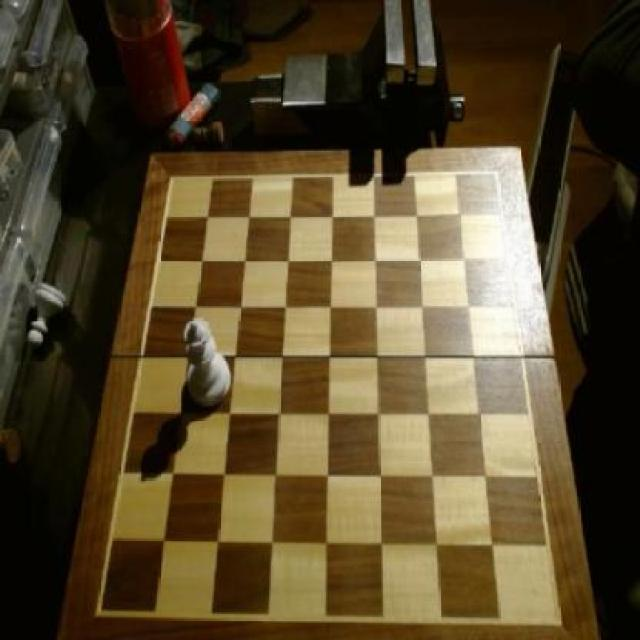white-pawn: (183, 322, 232, 410)
